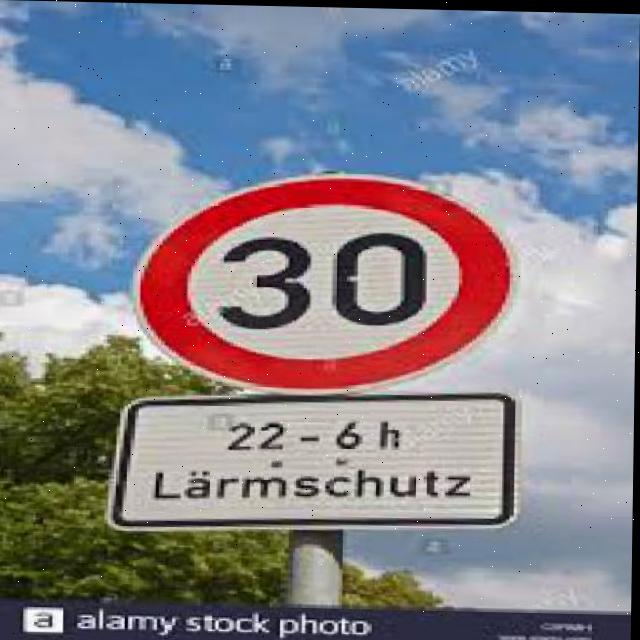Speed limit 30: (130, 165, 520, 396)
